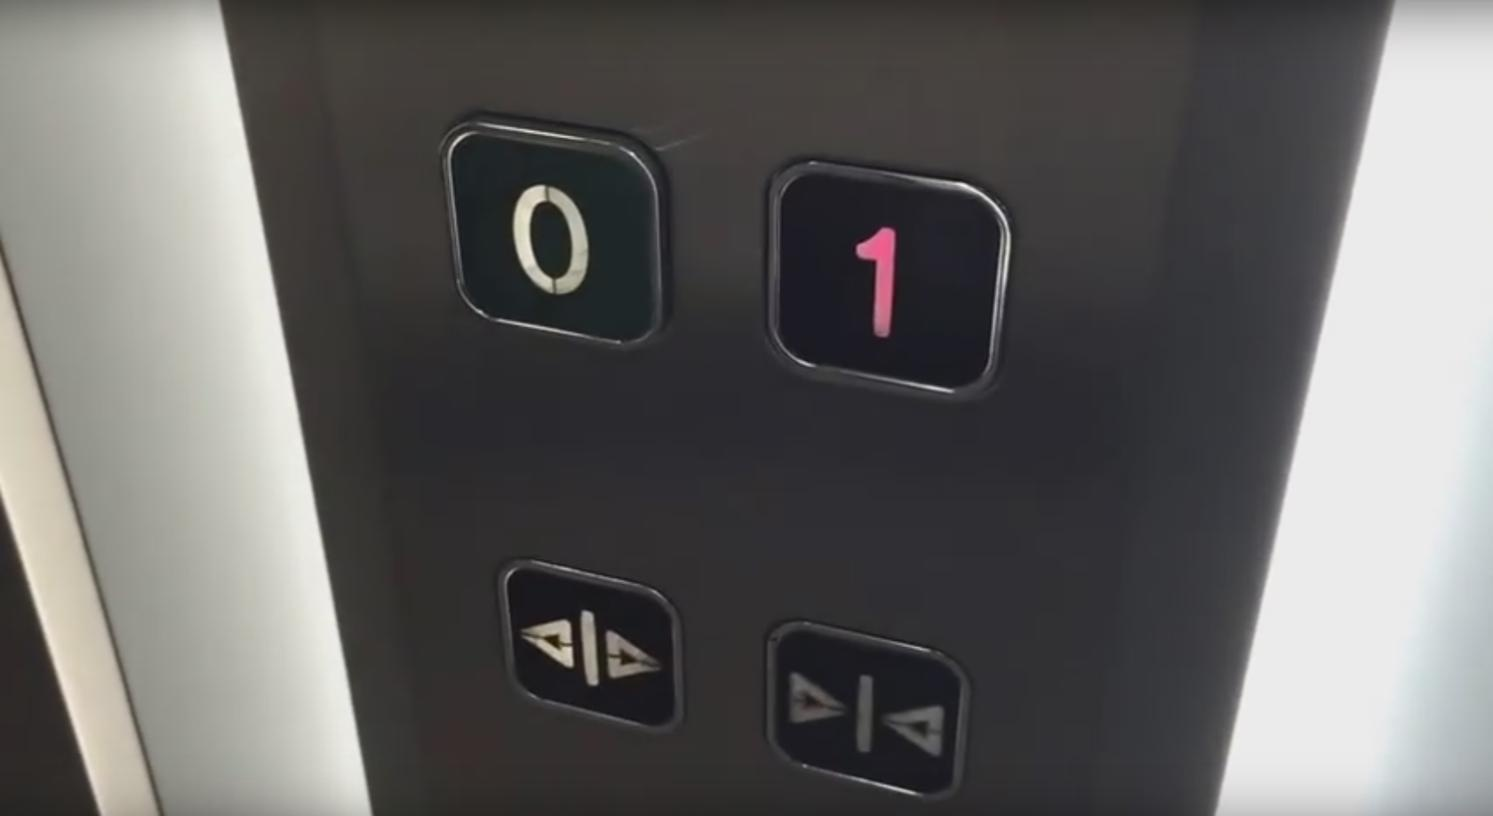0: (431, 106, 671, 355)
1: (761, 149, 1013, 404)
close: (765, 615, 972, 804)
open: (495, 552, 685, 735)
